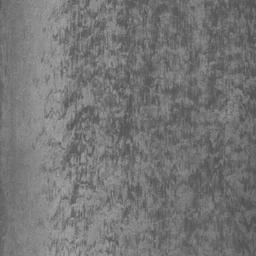Silk spot: (32, 0, 256, 256), (38, 178, 61, 202), (41, 51, 52, 68), (22, 110, 31, 128), (22, 26, 33, 40), (32, 218, 45, 229)
